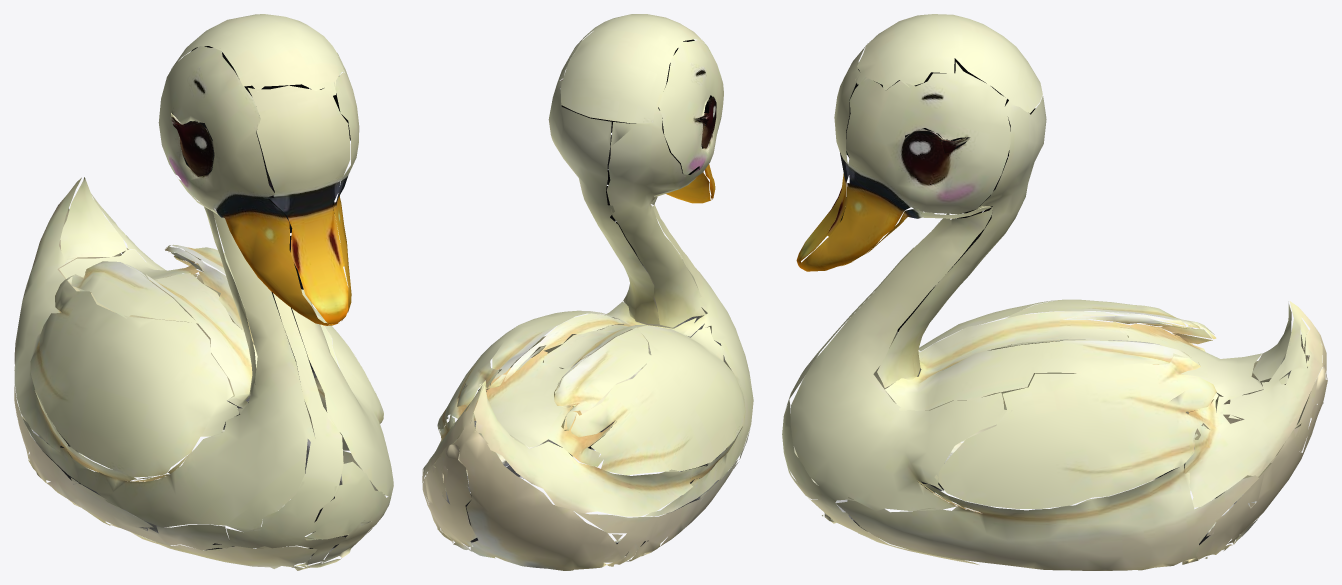
Rendered from kugu.glb.
The picture shows the model from 3 angles, left to right: view 1: azimuth 30°, elevation 25°; view 2: azimuth 150°, elevation 25°; view 3: azimuth 270°, elevation 25°; orthographic projection. The views are drawn at different scales.
Parts seen in each view (by area): view 1: geometry_0; view 2: geometry_0; view 3: geometry_0.
Part boxes in pixels (x1,y1,x2,y2): geometry_0: (14,14,393,570); geometry_0: (422,14,753,570); geometry_0: (782,14,1327,570).
Size of the model in its own units: 0.5551 by 0.9909 by 0.9856.
Materials: 1 (1 with a texture image).
